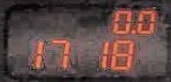-: (130, 29, 135, 34)
0: (112, 9, 131, 34), (135, 9, 154, 34)
1: (33, 40, 43, 68), (99, 40, 108, 68)
7: (49, 39, 69, 68)
8: (108, 38, 133, 69)
